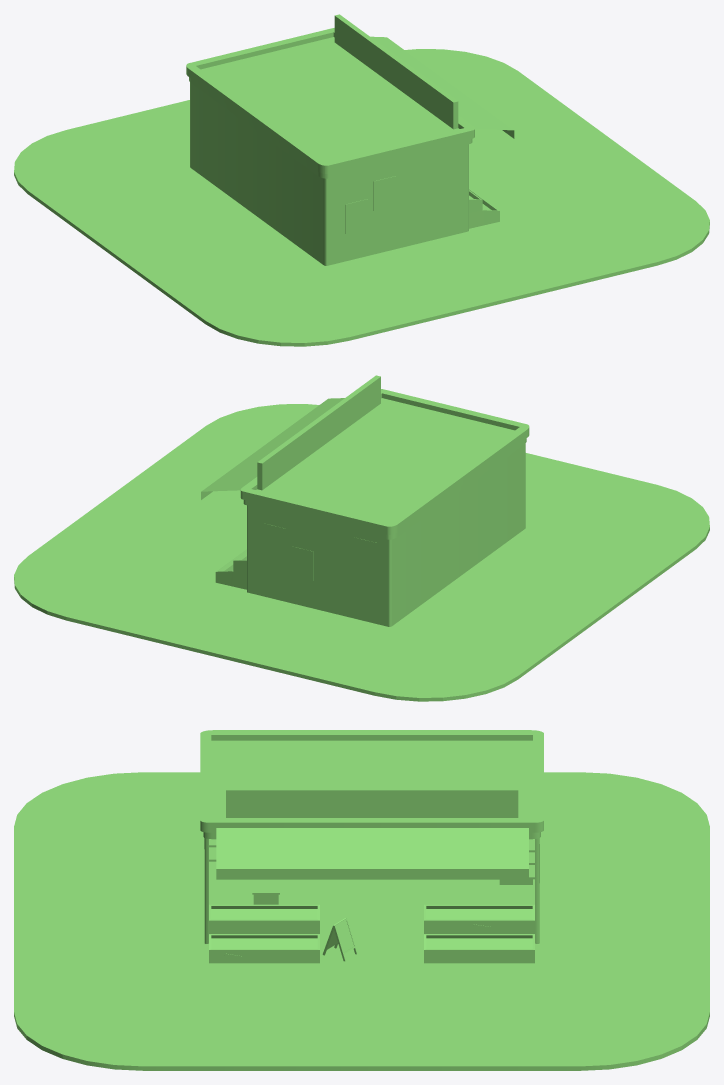
3 renders of one model, top to bottom at view 1: azimuth 30°, elevation 25°; view 2: azimuth 150°, elevation 25°; view 3: azimuth 270°, elevation 25°, orthographic. The views are drawn at different scales.
Parts seen in each view (by area): view 1: Cube.067; view 2: Cube.067; view 3: Cube.067.
Boxes of the visible parts, x1,y1,x2,y2 form: Cube.067: (14, 14, 709, 346); Cube.067: (14, 375, 709, 701); Cube.067: (14, 730, 709, 1070).
Bounding box in the file's own units: 4347 × 1090 × 4347.
